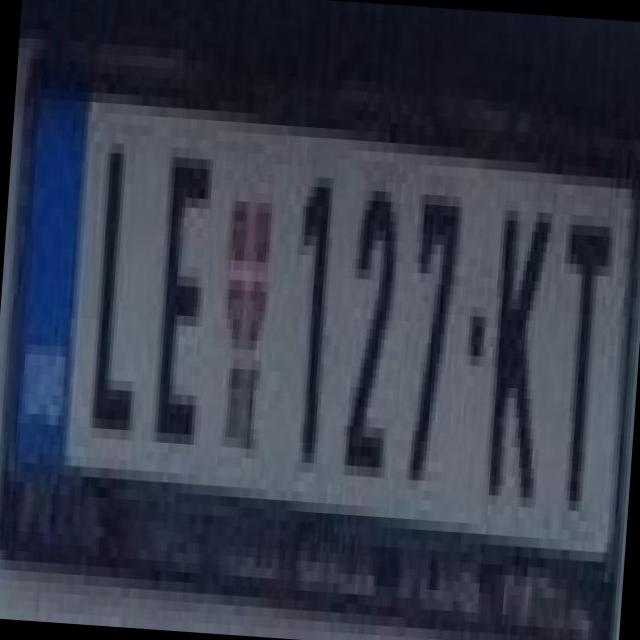1: (270, 145, 344, 463)
2: (326, 159, 406, 467)
7: (386, 163, 471, 482)
E: (140, 136, 220, 435)
K: (470, 189, 560, 498)
L: (76, 122, 156, 430)
T: (539, 194, 624, 494)
